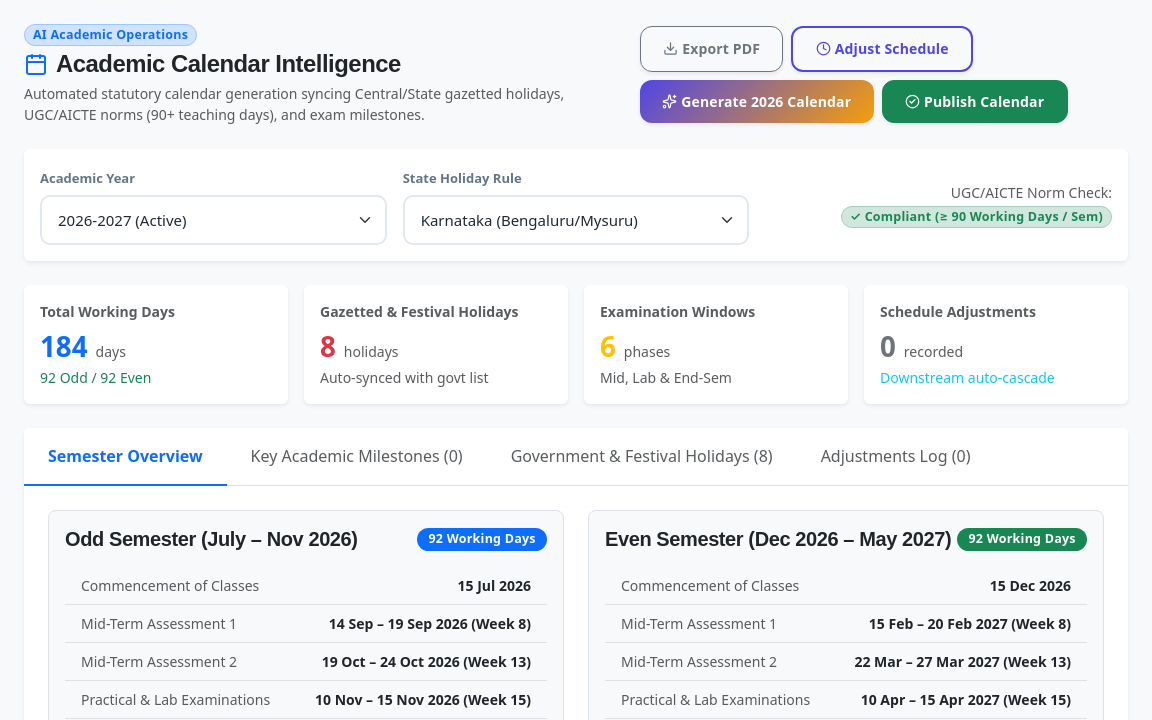
Test: AcademicCalendarPage Component › Opens schedule adjustment modal on button click
Click the button "Adjust Schedule": (882, 49) [791,26,973,72]
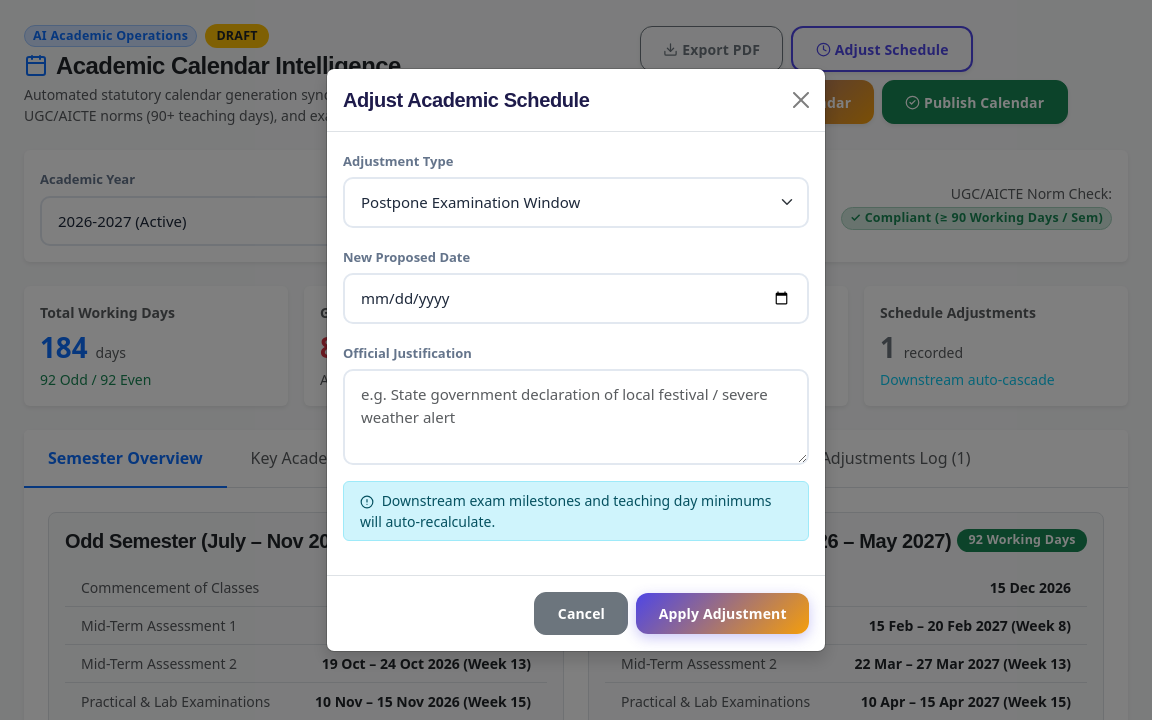
expect the heading "Adjust Academic Schedule" is shown: met, box [343,85,589,115]
expect the text "Adjustment Type" is shown: met, box [343,152,453,171]
